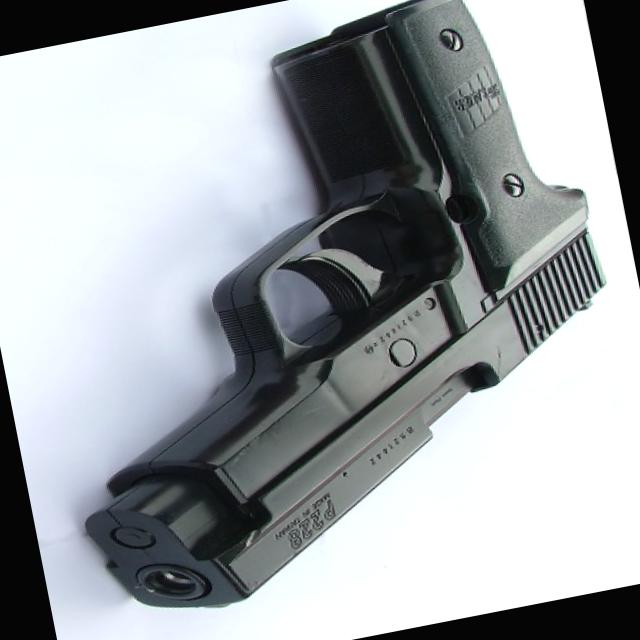handgun: (5, 0, 639, 632)
